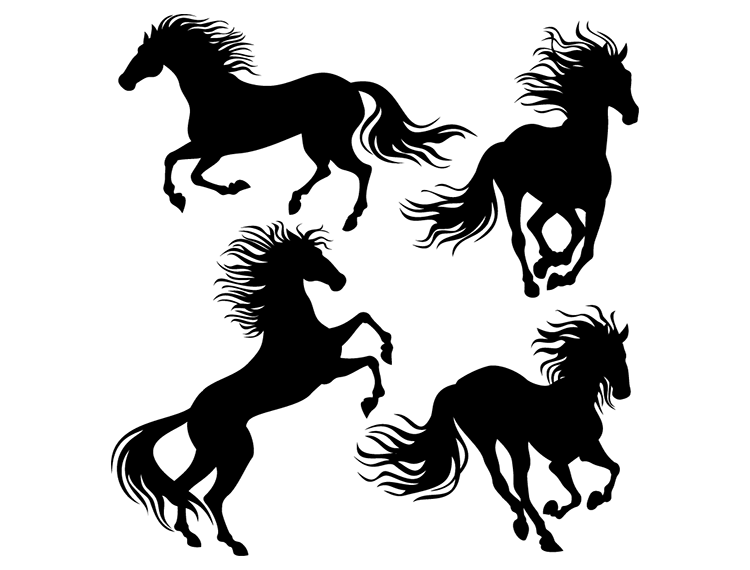background: (109, 95, 561, 437)
